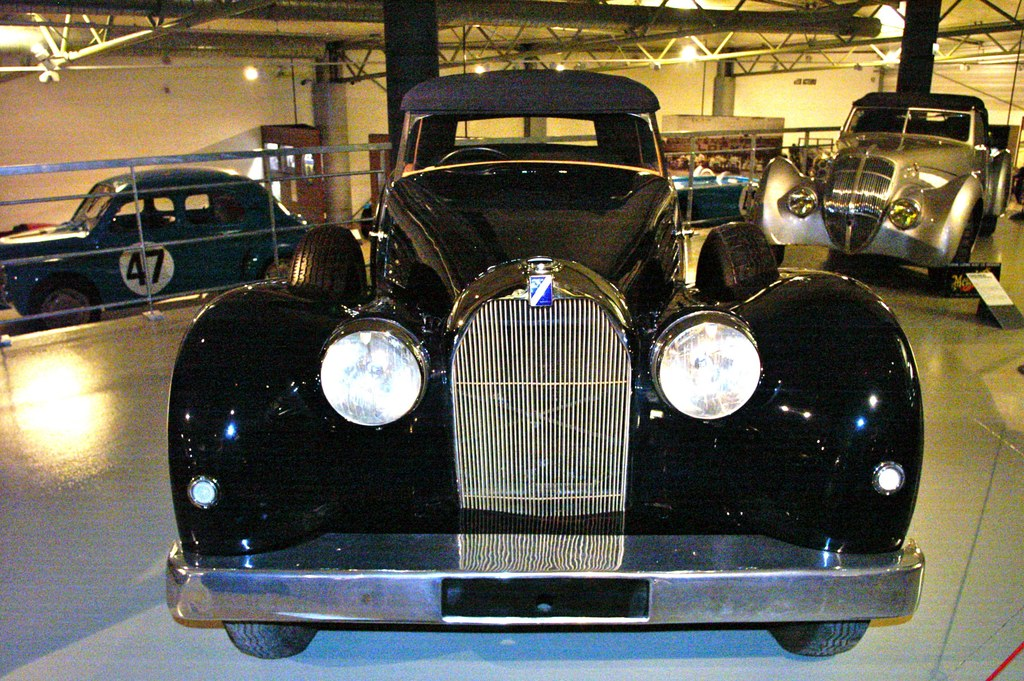Car: (154, 76, 897, 671), (2, 170, 325, 324), (763, 91, 1017, 274), (667, 170, 760, 215)
